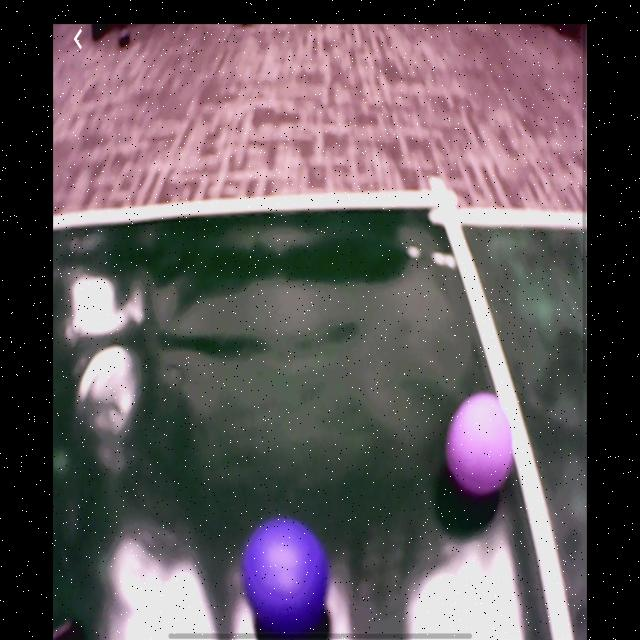ball: (243, 518, 331, 632), (446, 394, 515, 499)
